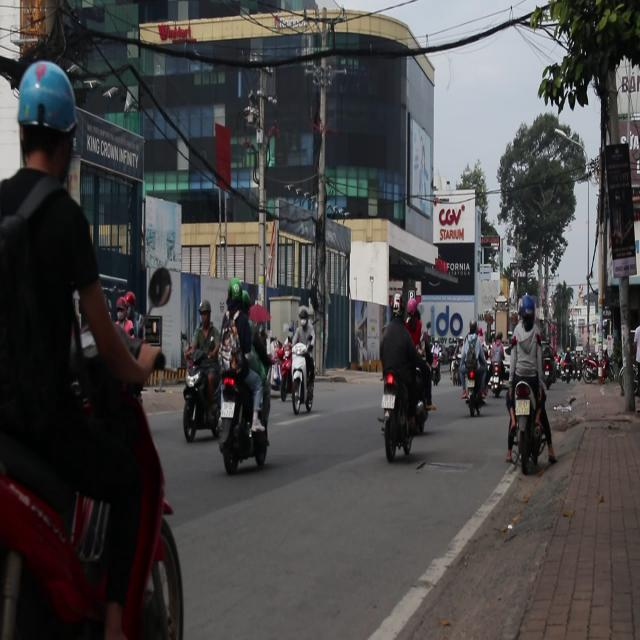motorbike: (214, 372, 274, 474), (374, 367, 425, 469), (177, 342, 218, 444), (500, 379, 550, 462), (292, 337, 317, 417), (461, 358, 485, 415), (450, 358, 461, 386)
